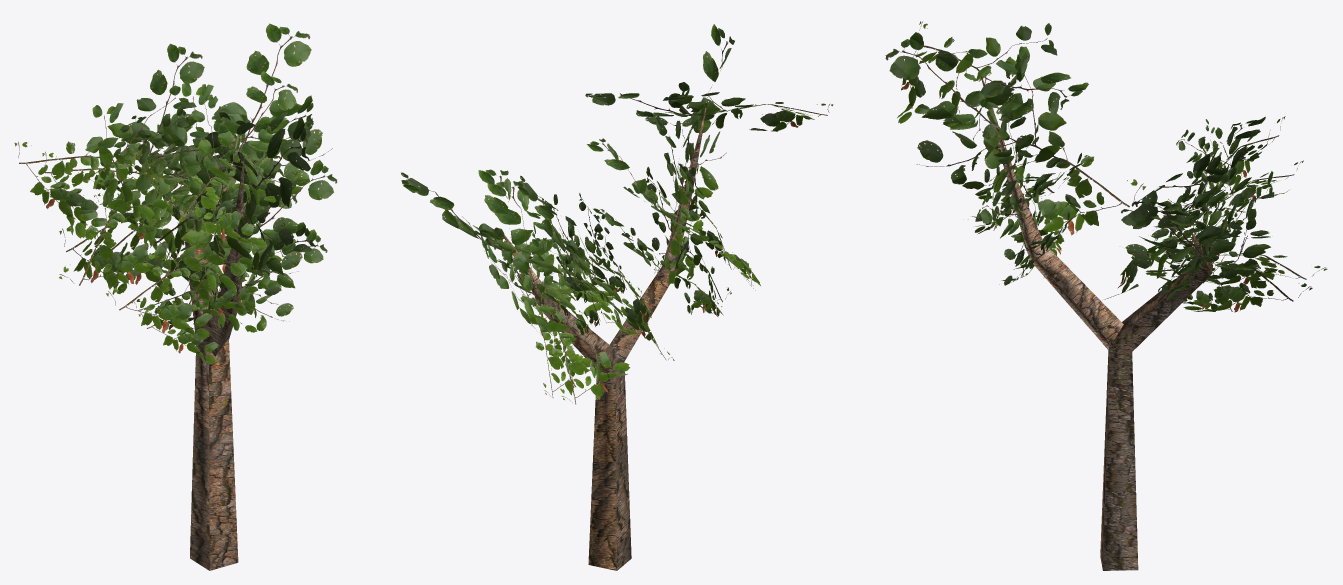
File: Tree2.fbx
3 views of the same model, side by side, from view 1: azimuth 30°, elevation 25°; view 2: azimuth 150°, elevation 25°; view 3: azimuth 270°, elevation 25° (orthographic). The views are drawn at different scales.
Visible parts, largest first — view 1: tree 2; view 2: tree 2; view 3: tree 2.
Boxes of the visible parts, <box> form: tree 2: <box>14,23,337,570</box>; tree 2: <box>401,24,833,570</box>; tree 2: <box>885,21,1327,570</box>.
Bounding box in the file's own units: 1091 × 1683 × 1311.
1 material, 1 textured.
